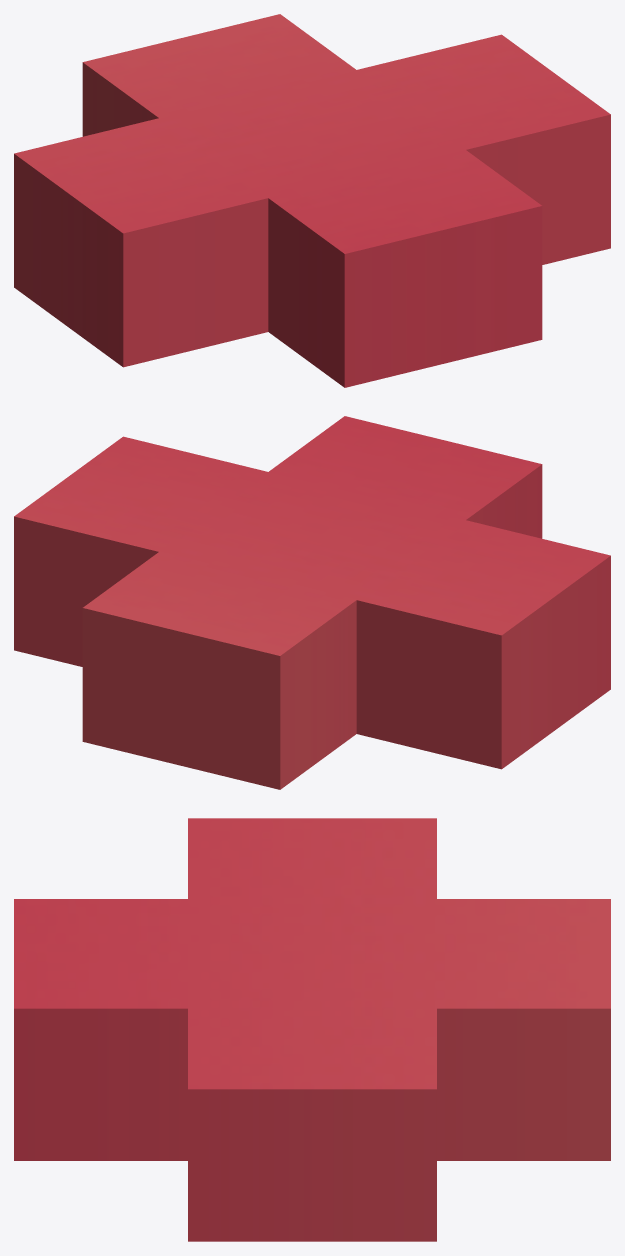
The model's file is SM_Shape_Cross__01.fbx.
3 views of the same model, one above another, from view 1: azimuth 30°, elevation 25°; view 2: azimuth 150°, elevation 25°; view 3: azimuth 270°, elevation 25° (orthographic). The views are drawn at different scales.
Parts seen in each view (by area): view 1: SM_Shape_Cross__01; view 2: SM_Shape_Cross__01; view 3: SM_Shape_Cross__01.
Part boxes in pixels (x1=…): SM_Shape_Cross__01: x1=14, y1=14, x2=610, y2=387; SM_Shape_Cross__01: x1=14, y1=416, x2=610, y2=789; SM_Shape_Cross__01: x1=14, y1=818, x2=610, y2=1241.
Size of the model in its own units: 7.55 by 1.98 by 7.03.
